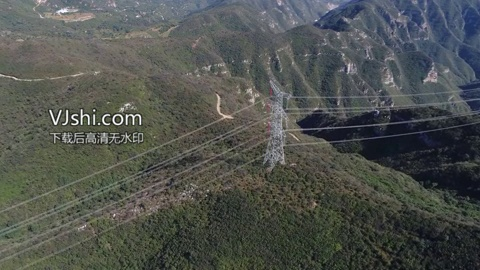tower_body: (263, 79, 295, 169)
tower_foot: (264, 143, 286, 166)
tower_head: (267, 82, 293, 101)
